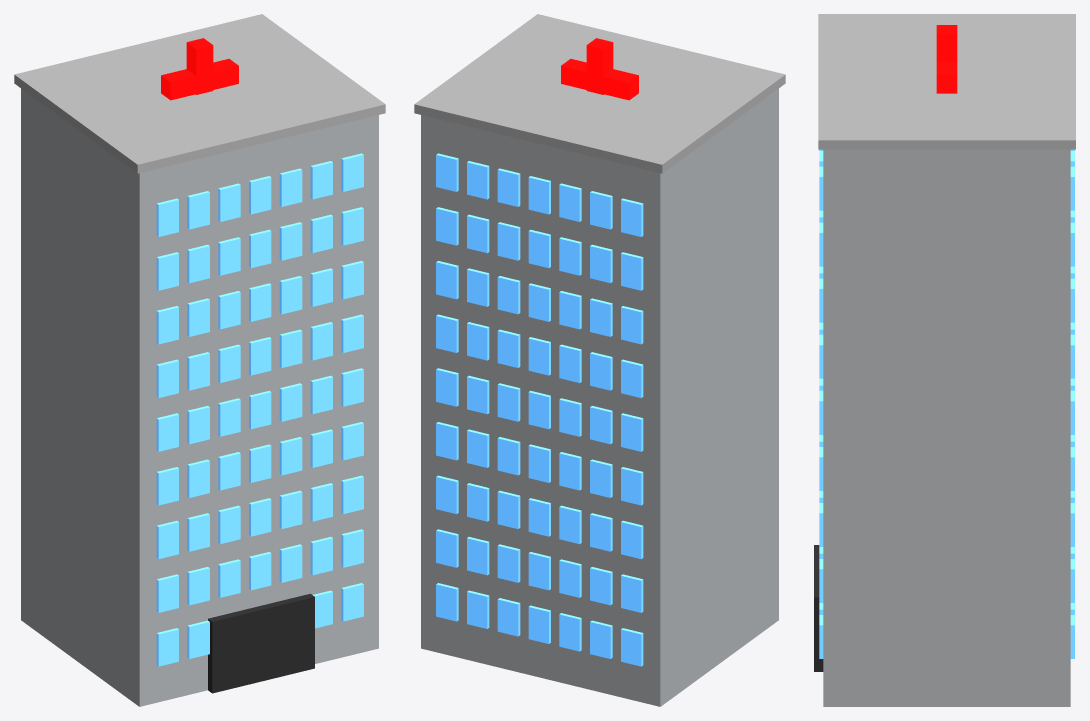
Rendered from hospital.glb.
The picture shows the model from 3 angles, left to right: view 1: azimuth 30°, elevation 25°; view 2: azimuth 150°, elevation 25°; view 3: azimuth 270°, elevation 25°; orthographic projection. The views are drawn at different scales.
Parts seen in each view (by area): view 1: hospital; view 2: hospital; view 3: hospital.
Part boxes in pixels (x1,y1,x2,y2): hospital: (14,14,385,706); hospital: (414,14,785,706); hospital: (814,14,1075,706).
Bounding box in the file's own units: 14.5 × 33 × 12.7.
